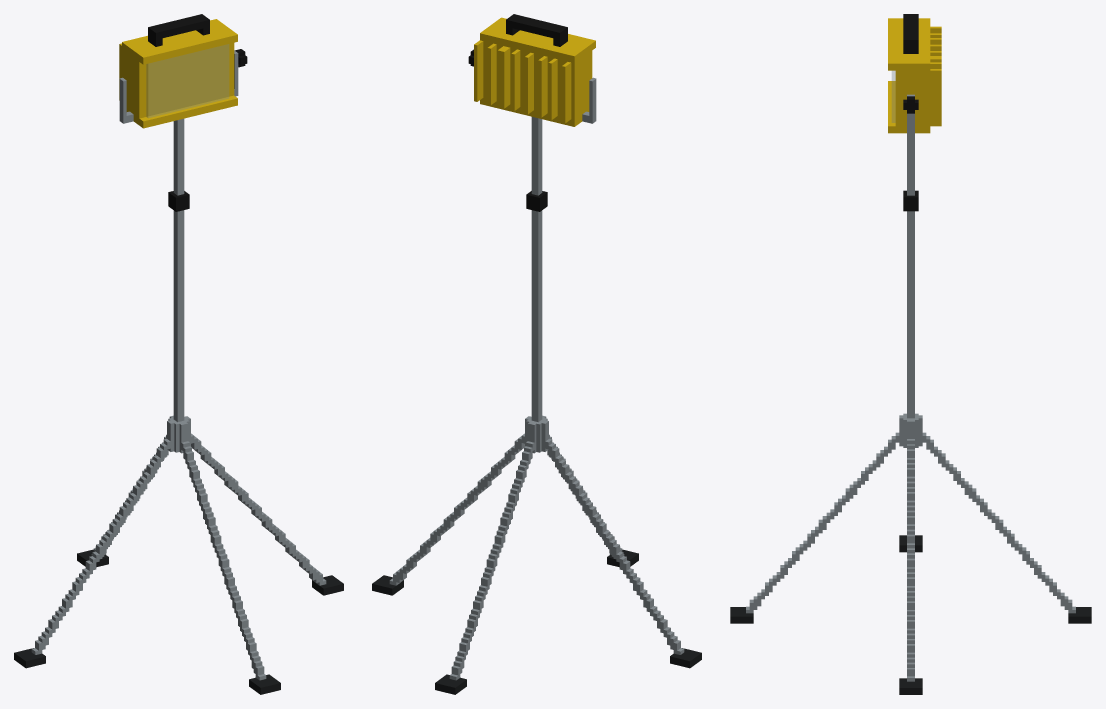
File: standing_floodlight.glb
3 views of the same model, side by side, from view 1: azimuth 30°, elevation 25°; view 2: azimuth 150°, elevation 25°; view 3: azimuth 270°, elevation 25° (orthographic).
Parts seen in each view (by area): view 1: standing_floodlight:compound; view 2: standing_floodlight:compound; view 3: standing_floodlight:compound.
Boxes of the visible parts, bbox=[...] form: standing_floodlight:compound: bbox=[14, 14, 343, 694]; standing_floodlight:compound: bbox=[372, 14, 701, 694]; standing_floodlight:compound: bbox=[730, 14, 1091, 694].
Bounding box in the file's own units: 0.94 × 1.7 × 0.94.
